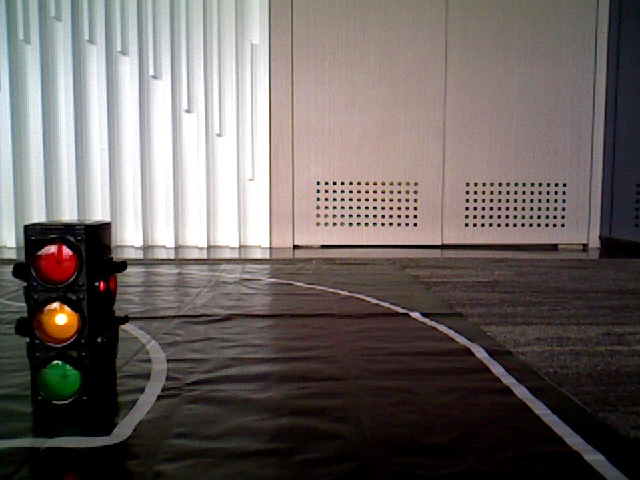yellow: (24, 227, 97, 407)
